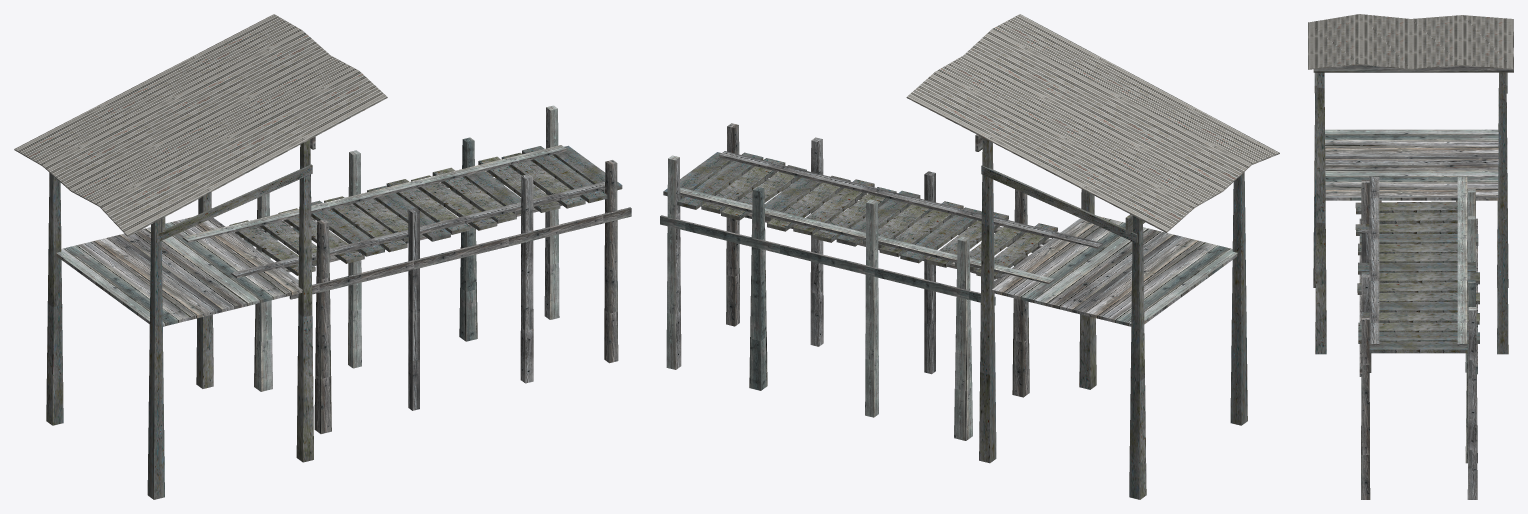
Rendered from covered-jetty.glb.
3 renders of one model, left to right at view 1: azimuth 30°, elevation 25°; view 2: azimuth 150°, elevation 25°; view 3: azimuth 270°, elevation 25°, orthographic. The views are drawn at different scales.
Parts seen in each view (by area): view 1: covered-jetty; view 2: covered-jetty; view 3: covered-jetty.
Boxes of the visible parts, x1,y1,x2,y2 form: covered-jetty: [14, 14, 631, 499]; covered-jetty: [660, 14, 1279, 499]; covered-jetty: [1308, 14, 1513, 499].
Size of the model in its own units: 16.89 by 10.74 by 6.24.
Materials: 3 (3 with a texture image).
